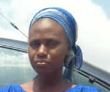without_facemask: (24, 46, 70, 77)
